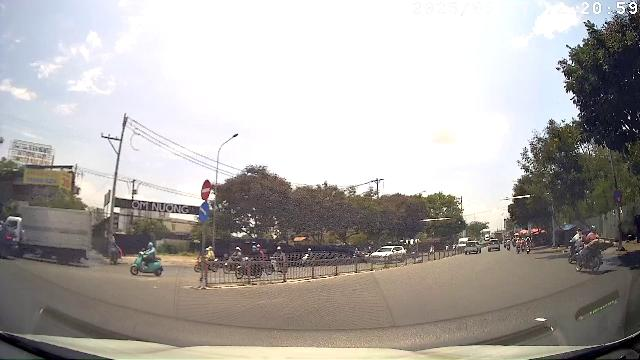102-cam-di-nguoc-chieu: (201, 179, 211, 200)
302a-huong-phai-di-vong-chuong-ngai-vat-1: (199, 201, 210, 223)
